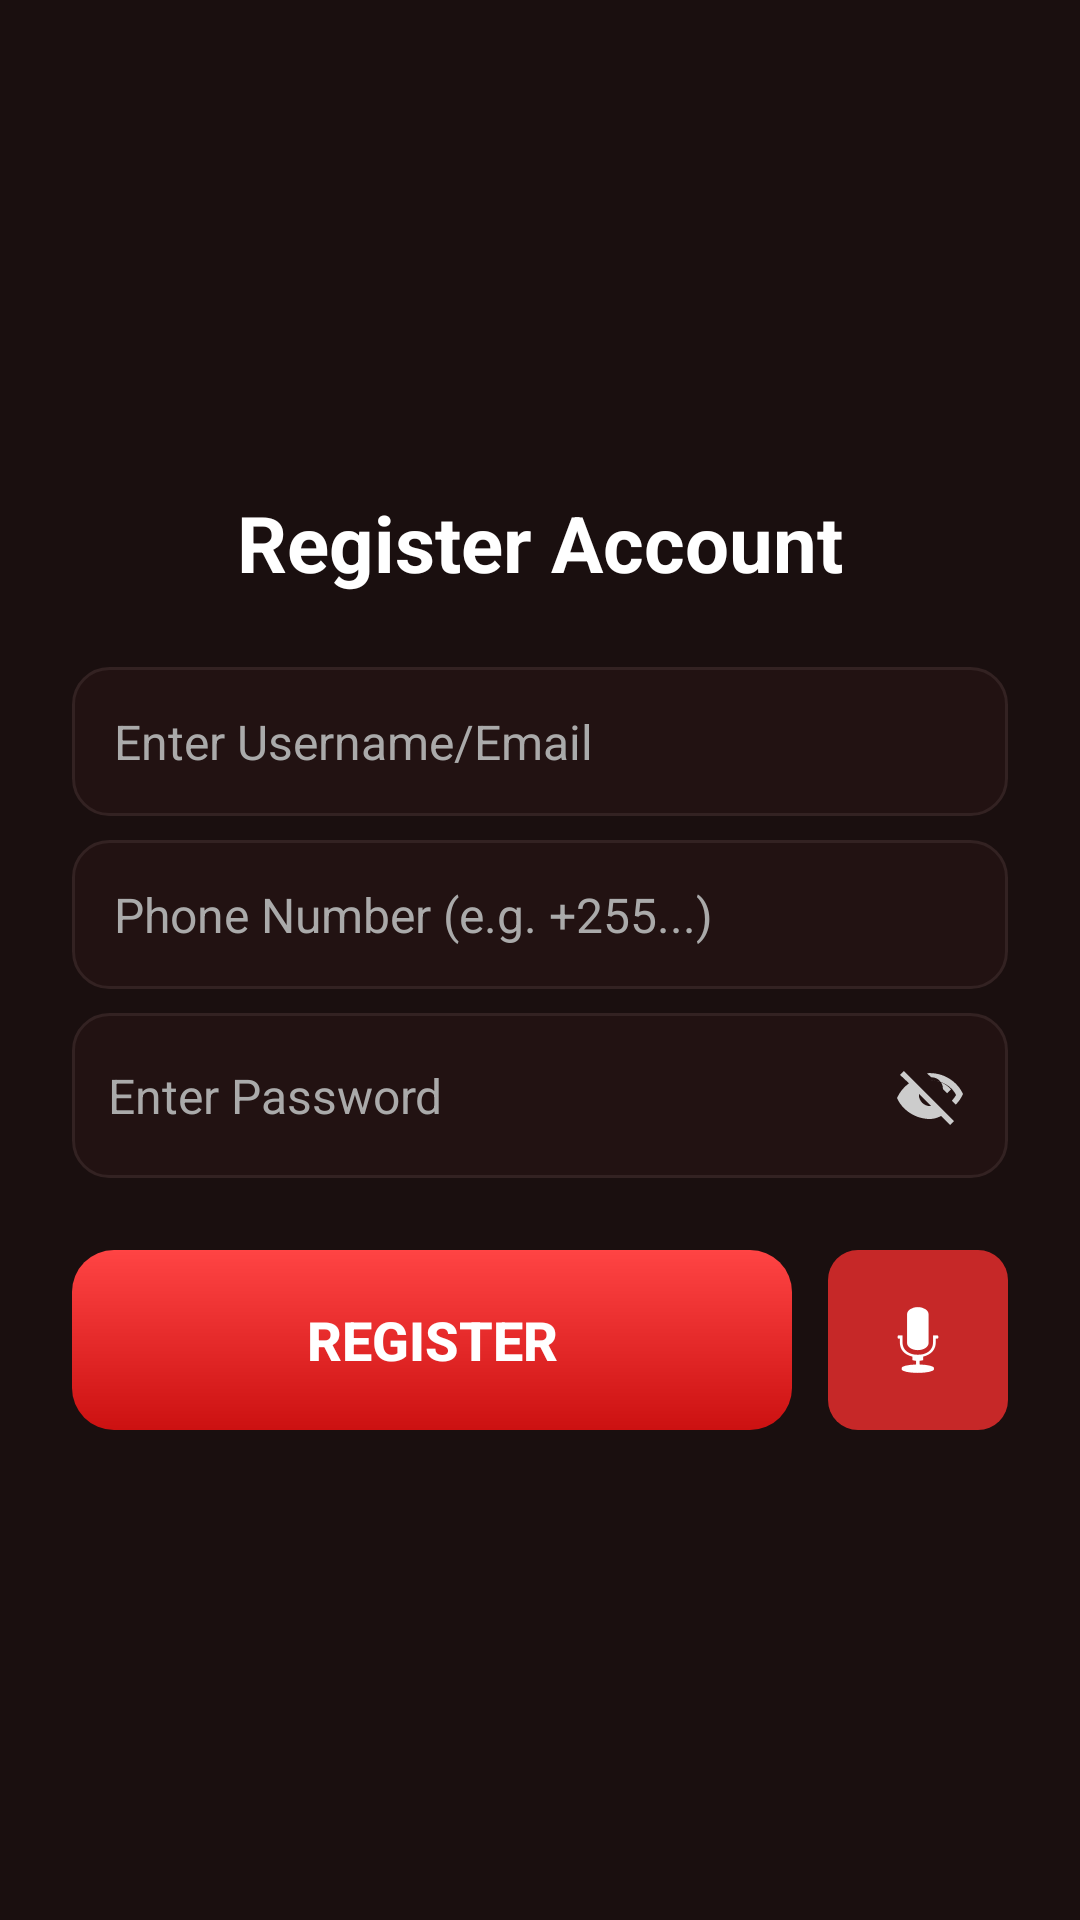

Where to tap for icons on this 1080*1920 app screen, as [x,y]:
Visibility off: [930,1098]
Voice Command: [918,1340]
